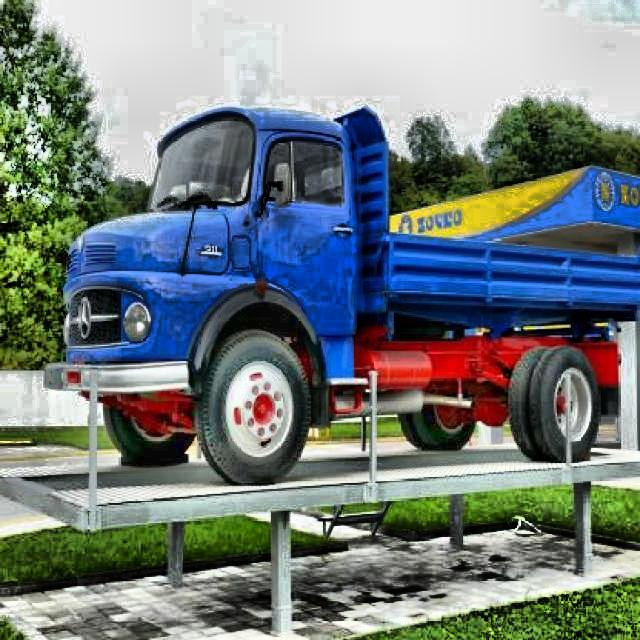dump_truck: (31, 92, 640, 498)
